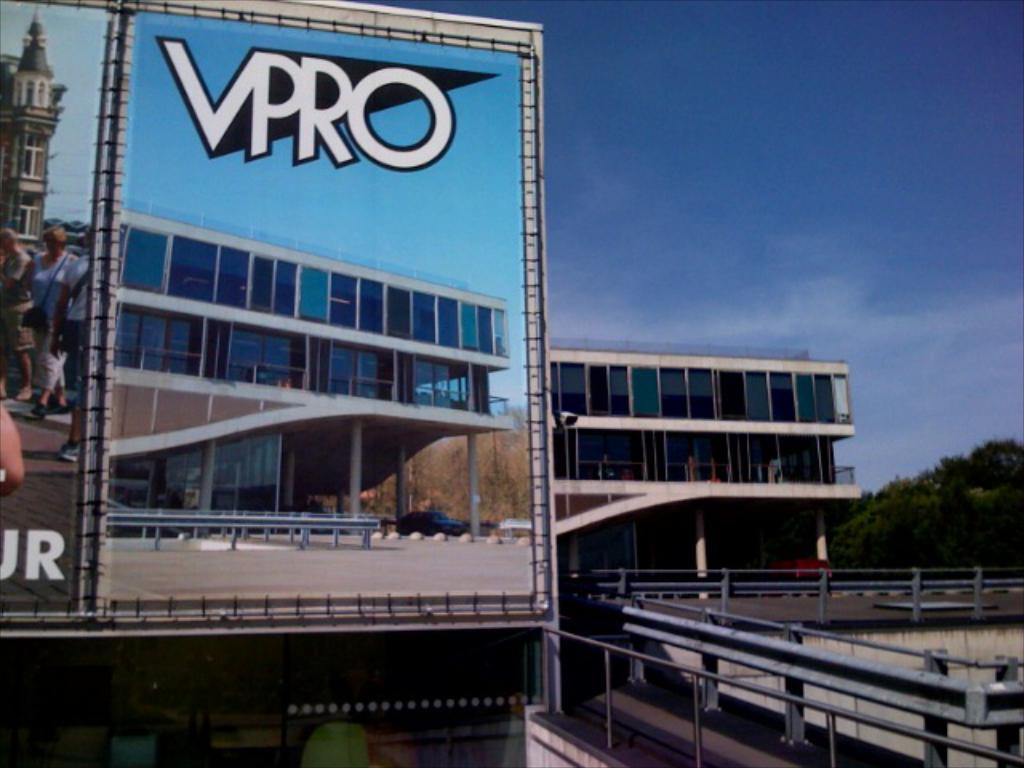Tree: (827, 438, 1019, 579)
